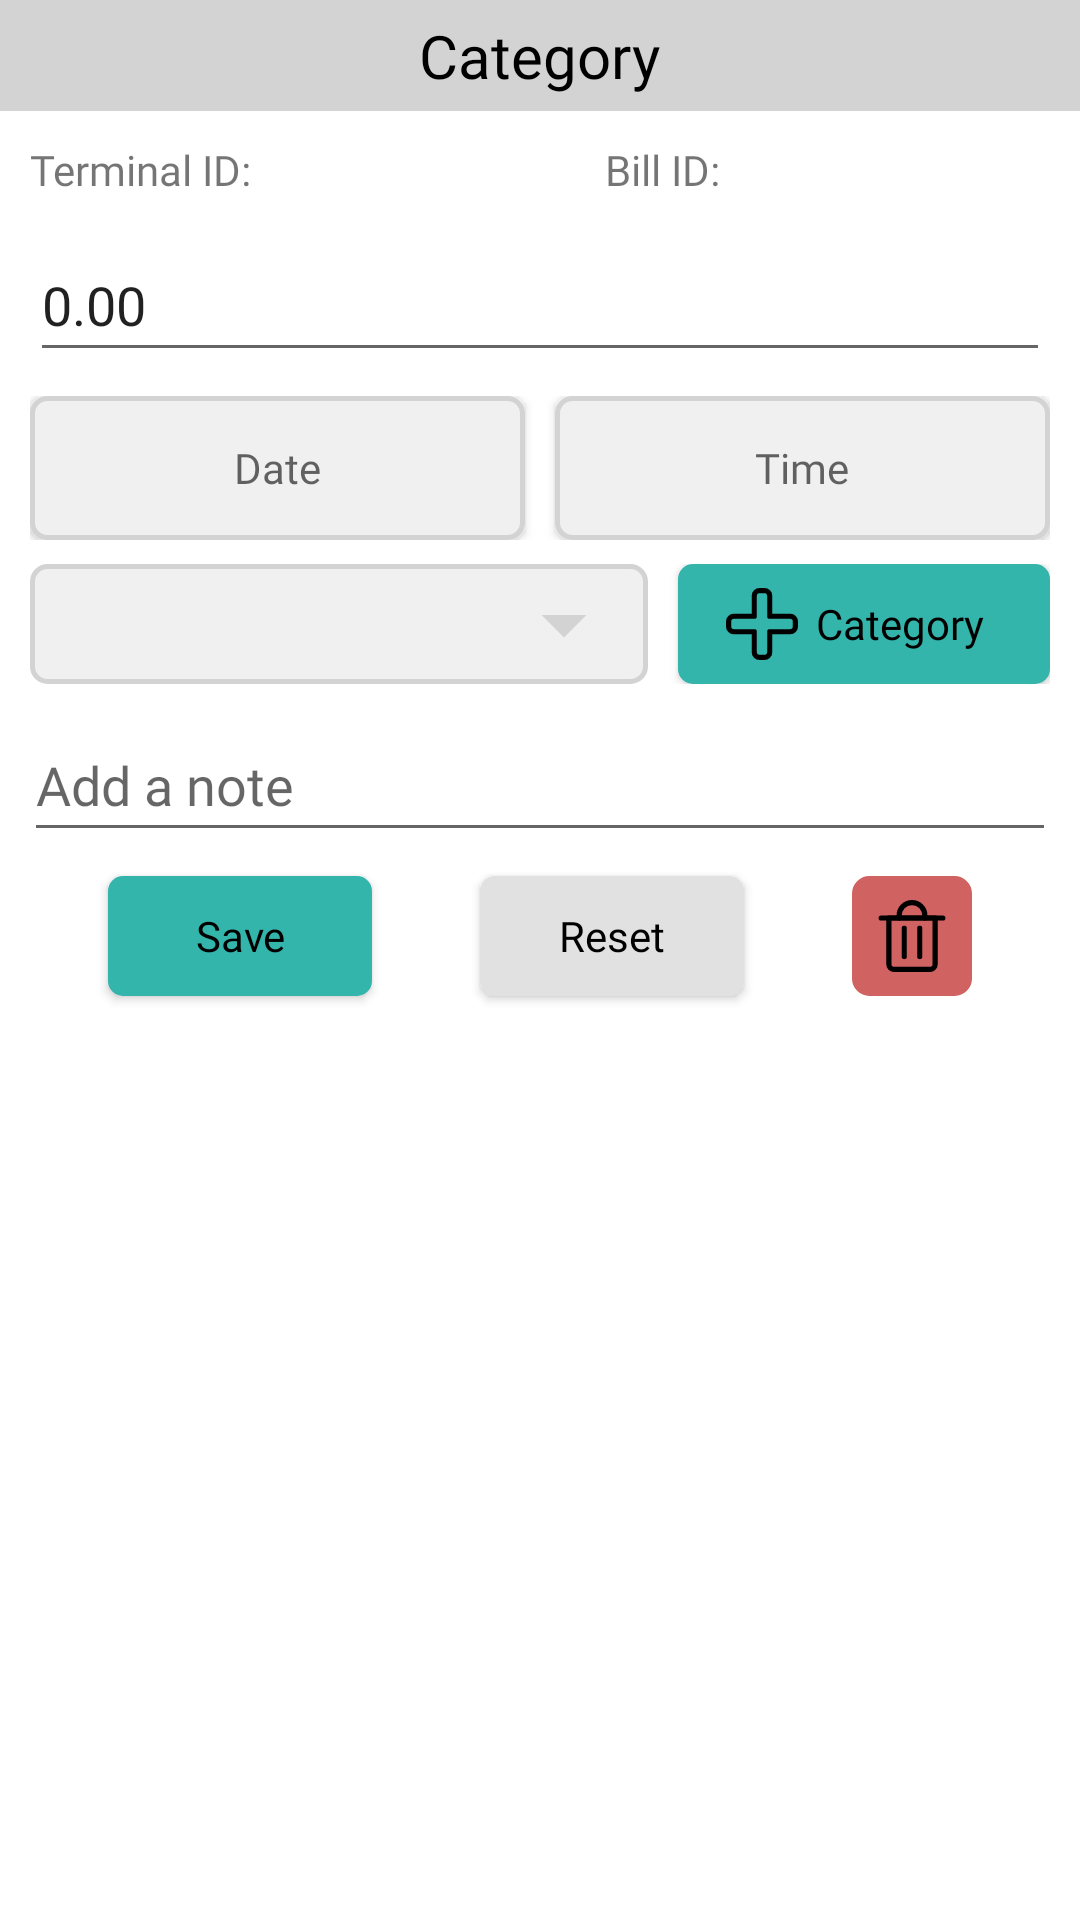

Icons on this 1080×1920 Android screen, each with its box as (x1, y1, x2, y2):
Delete: (852, 876, 972, 996)
